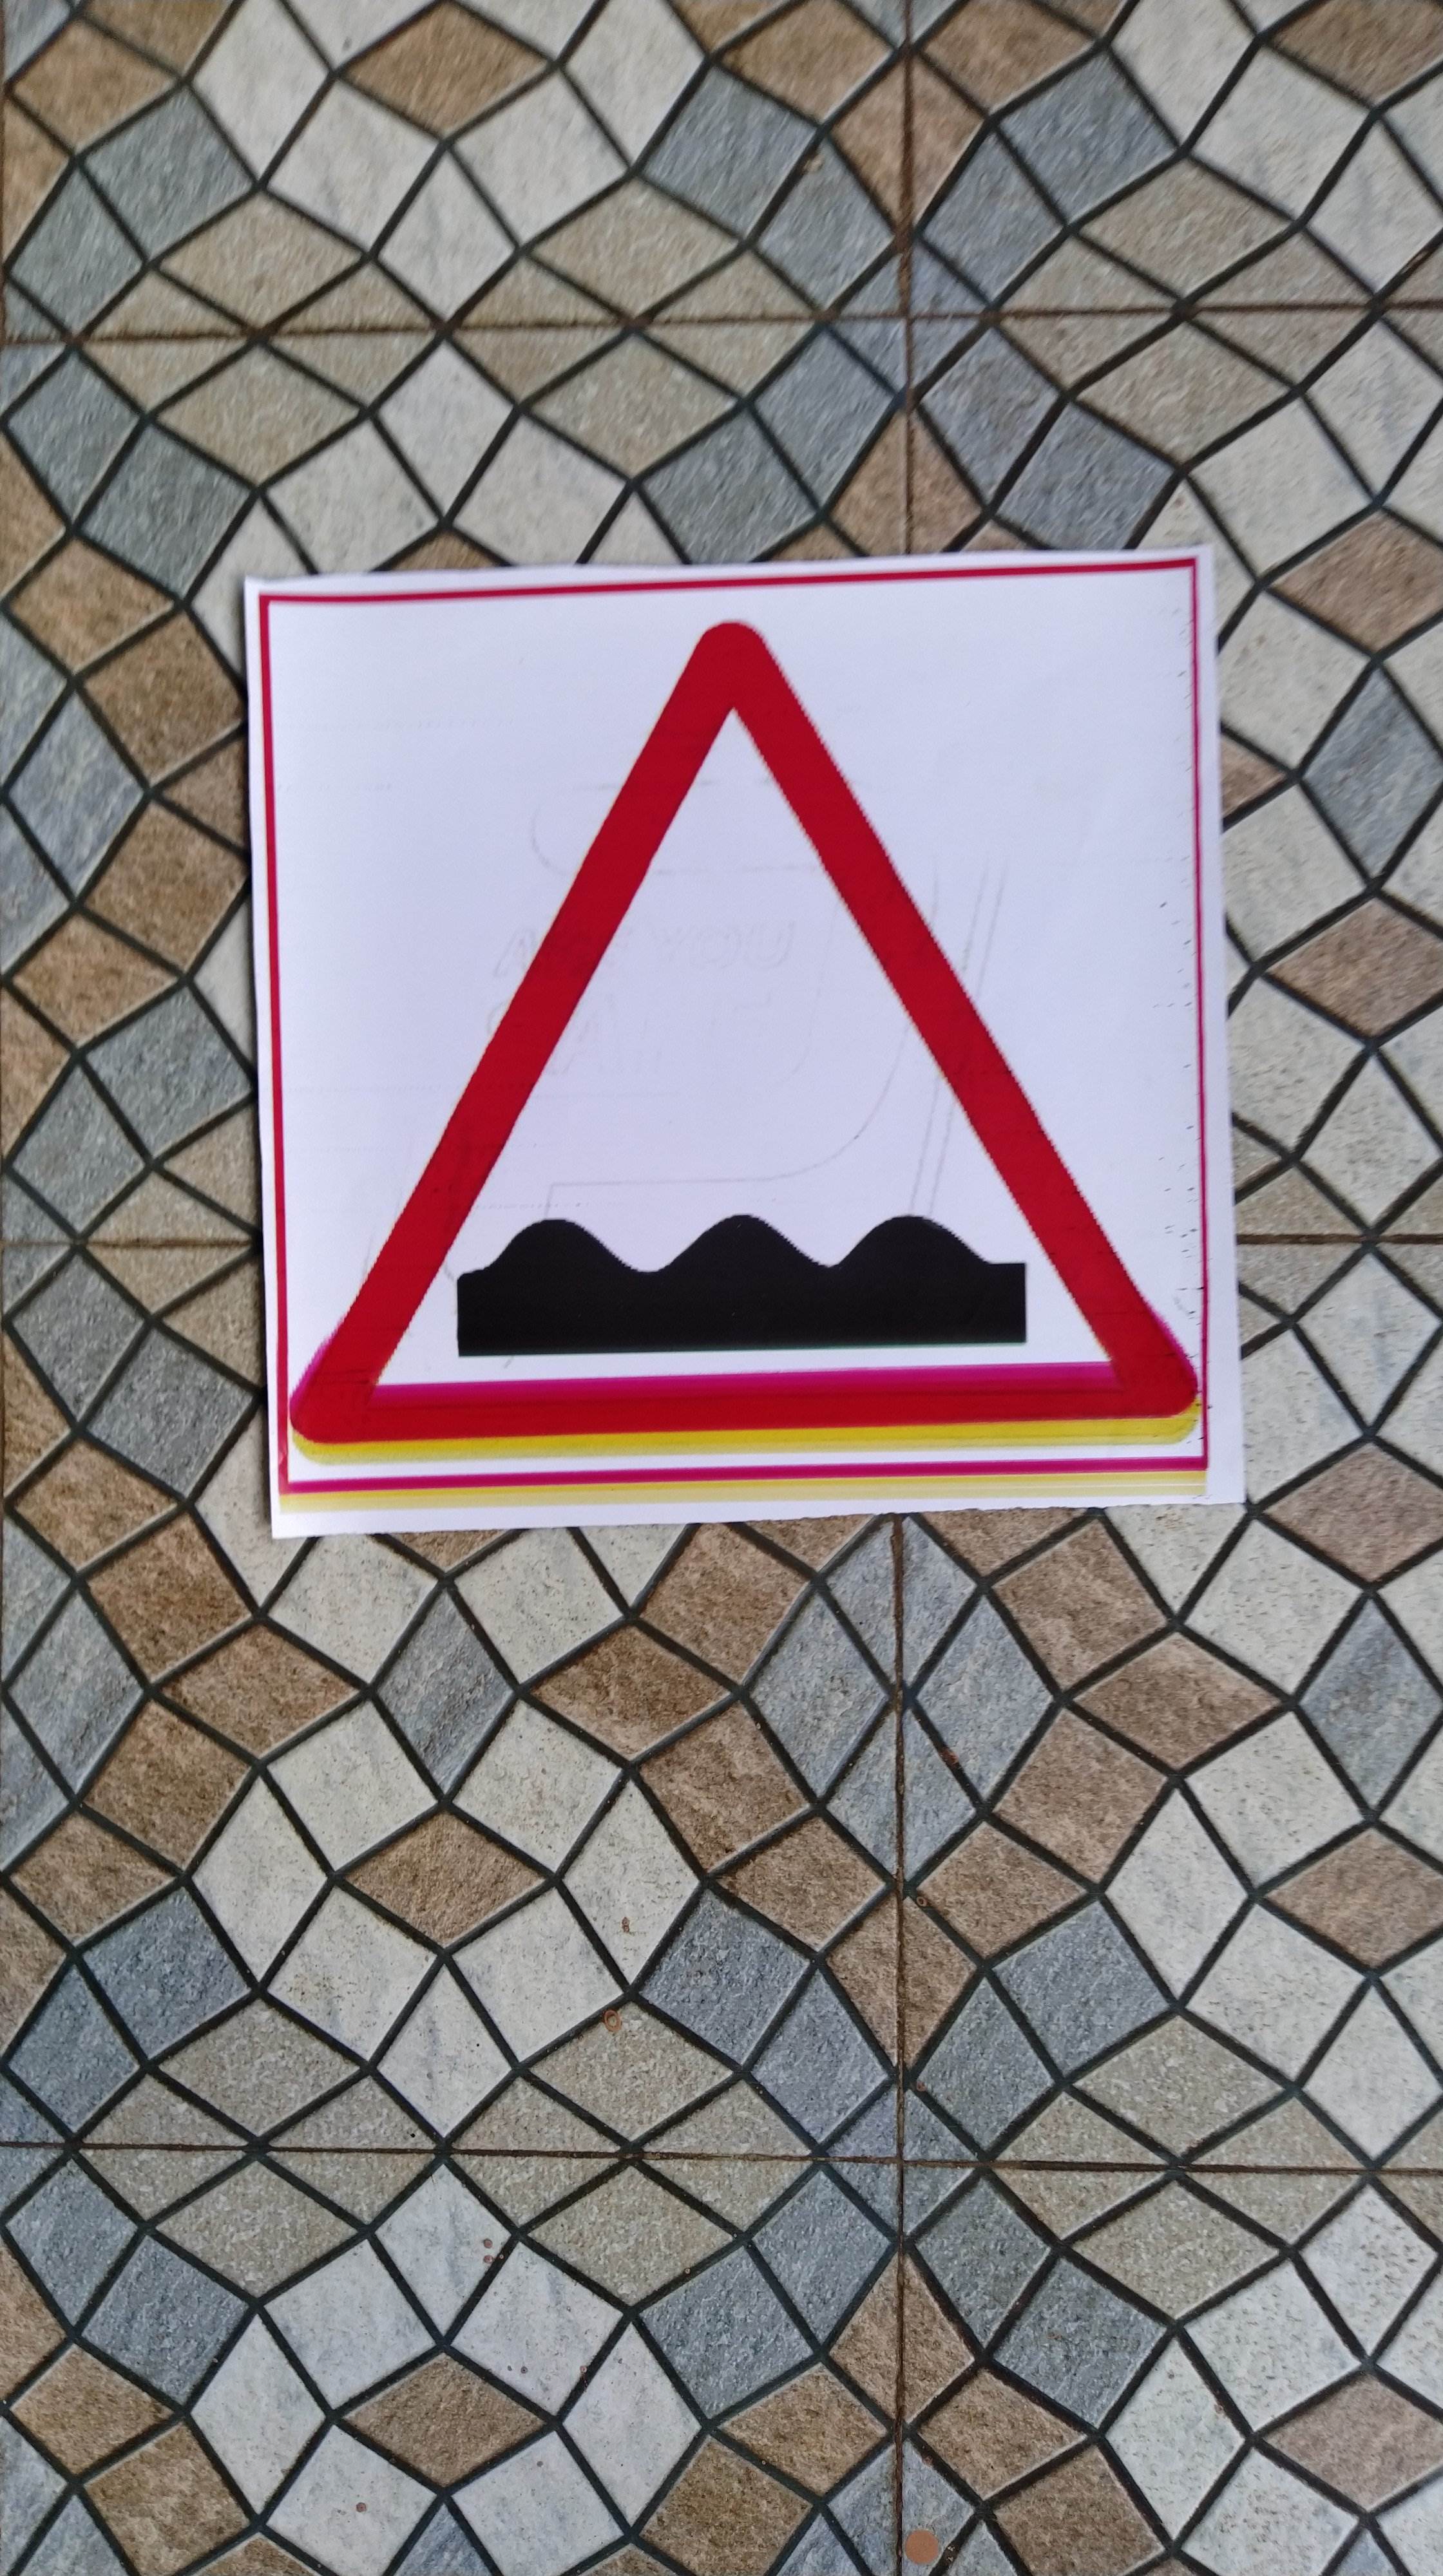speed breaker: (257, 586, 1218, 1495)
